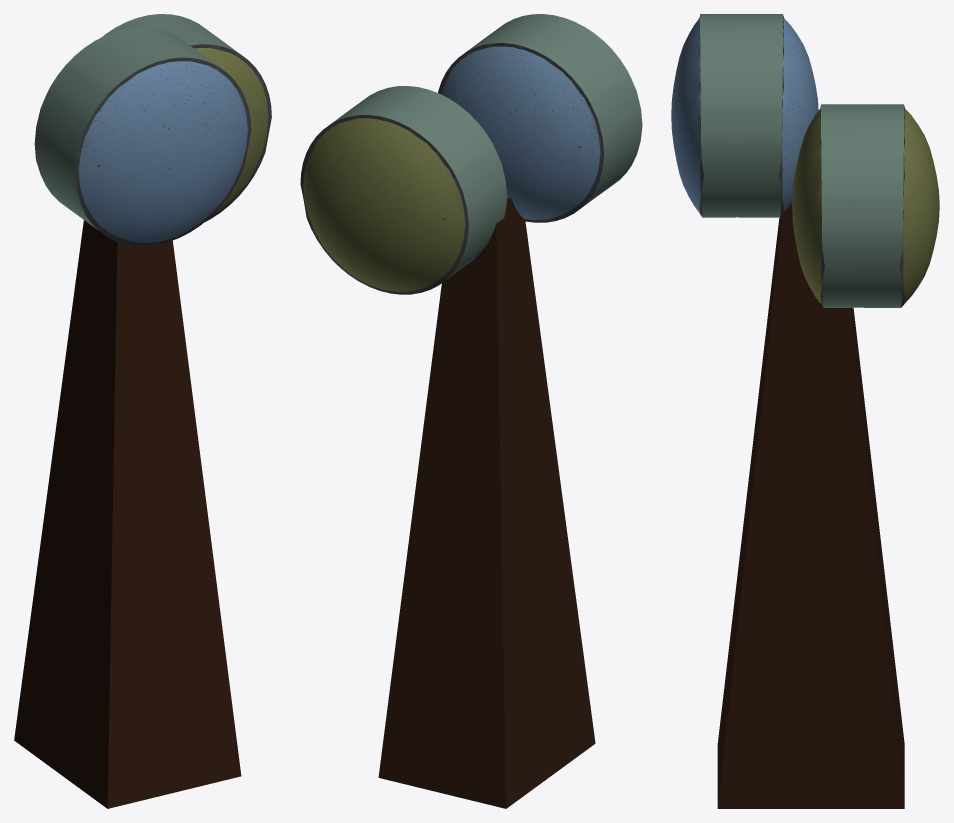
The model's file is Tree 04.fbx.
The picture shows the model from 3 angles, left to right: view 1: azimuth 30°, elevation 25°; view 2: azimuth 150°, elevation 25°; view 3: azimuth 270°, elevation 25°; orthographic projection. The views are drawn at different scales.
Parts seen in each view (by area): view 1: tree_08_trunk, tree_08_01, tree_08_00; view 2: tree_08_trunk, tree_08_00, tree_08_01; view 3: tree_08_trunk, tree_08_00, tree_08_01.
Boxes of the visible parts, box(x1,y1,x2,y2) form: tree_08_trunk: box(14, 220, 241, 808); tree_08_01: box(34, 27, 251, 246); tree_08_00: box(102, 14, 271, 221); tree_08_trunk: box(378, 197, 595, 808); tree_08_00: box(300, 86, 507, 294); tree_08_01: box(438, 14, 642, 222); tree_08_trunk: box(717, 203, 904, 808); tree_08_00: box(792, 104, 939, 307); tree_08_01: box(671, 14, 818, 217).
Bounding box in the file's own units: 7.28 × 20.08 × 6.58.
